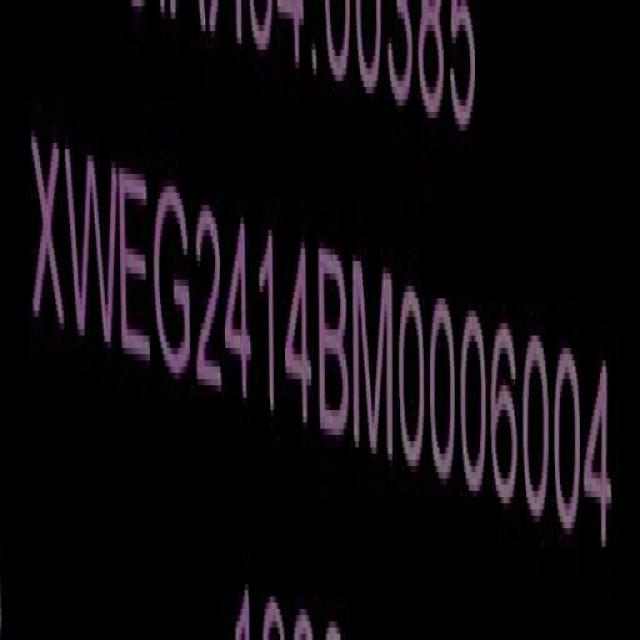0: (398, 276, 428, 479), (522, 328, 552, 527), (555, 342, 584, 540), (430, 292, 458, 494), (461, 303, 489, 500)
1: (259, 218, 277, 423)
2: (195, 196, 225, 402)
4: (284, 227, 315, 436), (587, 357, 615, 558), (226, 216, 253, 416)
6: (491, 313, 522, 513)
B: (317, 242, 351, 455)
E: (118, 152, 153, 376)
G: (154, 171, 192, 386)
M: (354, 254, 394, 467)
W: (69, 134, 118, 362)
X: (31, 124, 67, 351)
